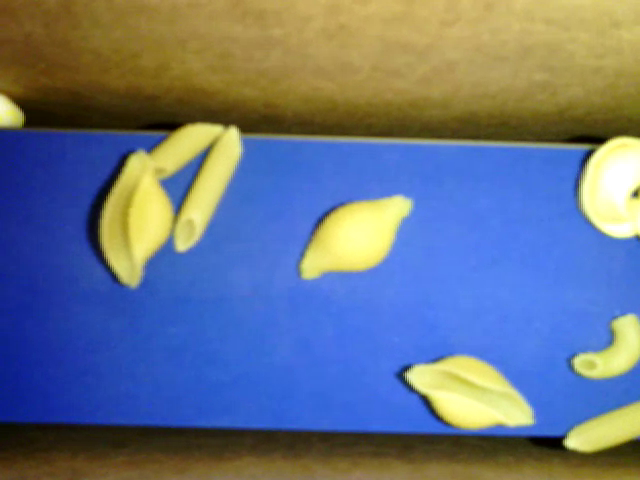elbow: (570, 312, 639, 380)
penne: (173, 124, 244, 253), (146, 121, 224, 178), (563, 402, 639, 455)
shell: (100, 148, 175, 289), (402, 352, 535, 428), (299, 193, 411, 280)
tortellini: (578, 134, 639, 240)
